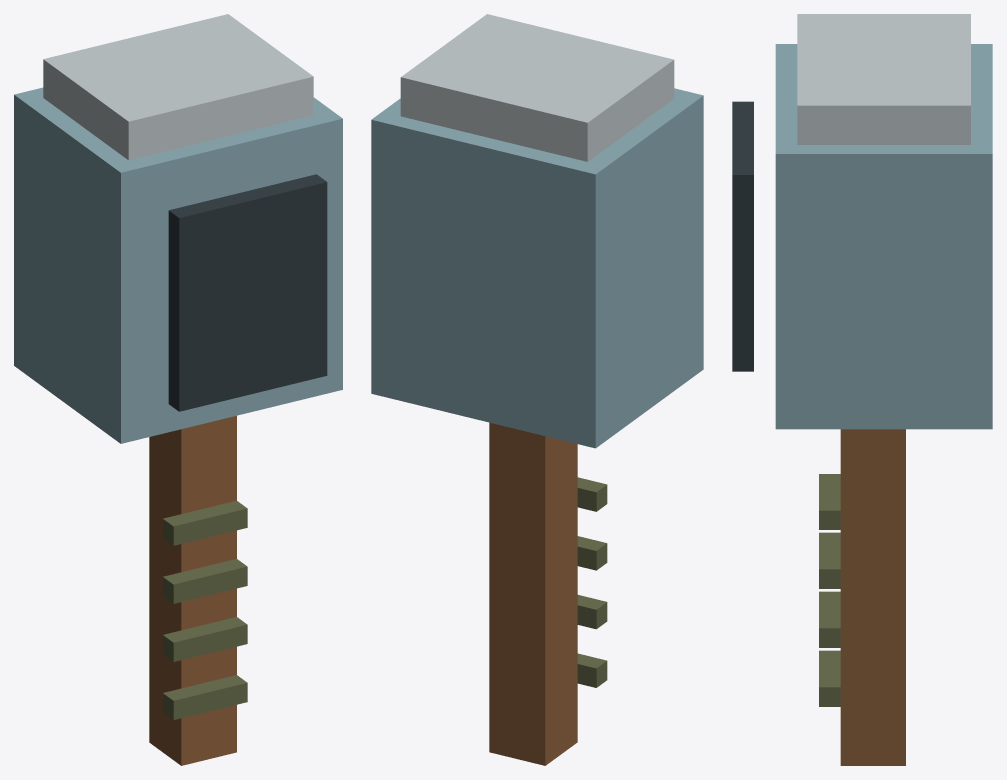
Rendered from weapon_blunt.glb.
3 renders of one model, left to right at view 1: azimuth 30°, elevation 25°; view 2: azimuth 150°, elevation 25°; view 3: azimuth 270°, elevation 25°, orthographic.
Visible parts, largest first — view 1: weapon_blunt/head, weapon_blunt/head_cap, weapon_blunt/haft, weapon_blunt/grip, weapon_blunt/grip_wrap; view 2: weapon_blunt/head, weapon_blunt/head_cap, weapon_blunt/grip, weapon_blunt/haft, weapon_blunt/grip_wrap; view 3: weapon_blunt/head, weapon_blunt/head_cap, weapon_blunt/grip, weapon_blunt/grip_wrap, weapon_blunt/haft.
Boxes of the visible parts, x1,y1,x2,y2 form: weapon_blunt/head: [14, 87, 342, 443]; weapon_blunt/head_cap: [43, 14, 313, 160]; weapon_blunt/haft: [149, 415, 236, 630]; weapon_blunt/grip: [149, 481, 236, 765]; weapon_blunt/grip_wrap: [163, 500, 247, 719]; weapon_blunt/head: [371, 88, 703, 448]; weapon_blunt/head_cap: [400, 14, 674, 161]; weapon_blunt/grip: [489, 468, 577, 765]; weapon_blunt/haft: [489, 422, 577, 621]; weapon_blunt/grip_wrap: [577, 477, 607, 687]; weapon_blunt/head: [732, 44, 992, 429]; weapon_blunt/head_cap: [797, 14, 970, 144]; weapon_blunt/grip: [840, 491, 905, 765]; weapon_blunt/grip_wrap: [819, 474, 840, 706]; weapon_blunt/haft: [840, 429, 905, 626].
Bounding box in the file's own units: 0.375 × 1.09 × 0.375.
